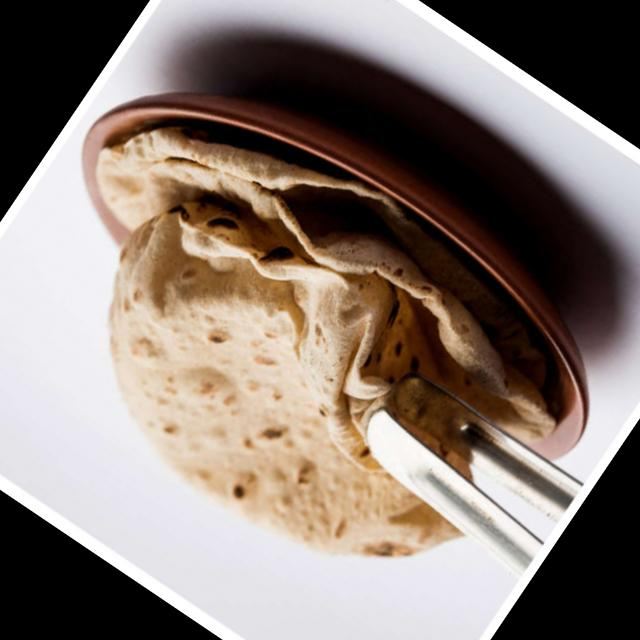roti: (99, 133, 551, 559)
